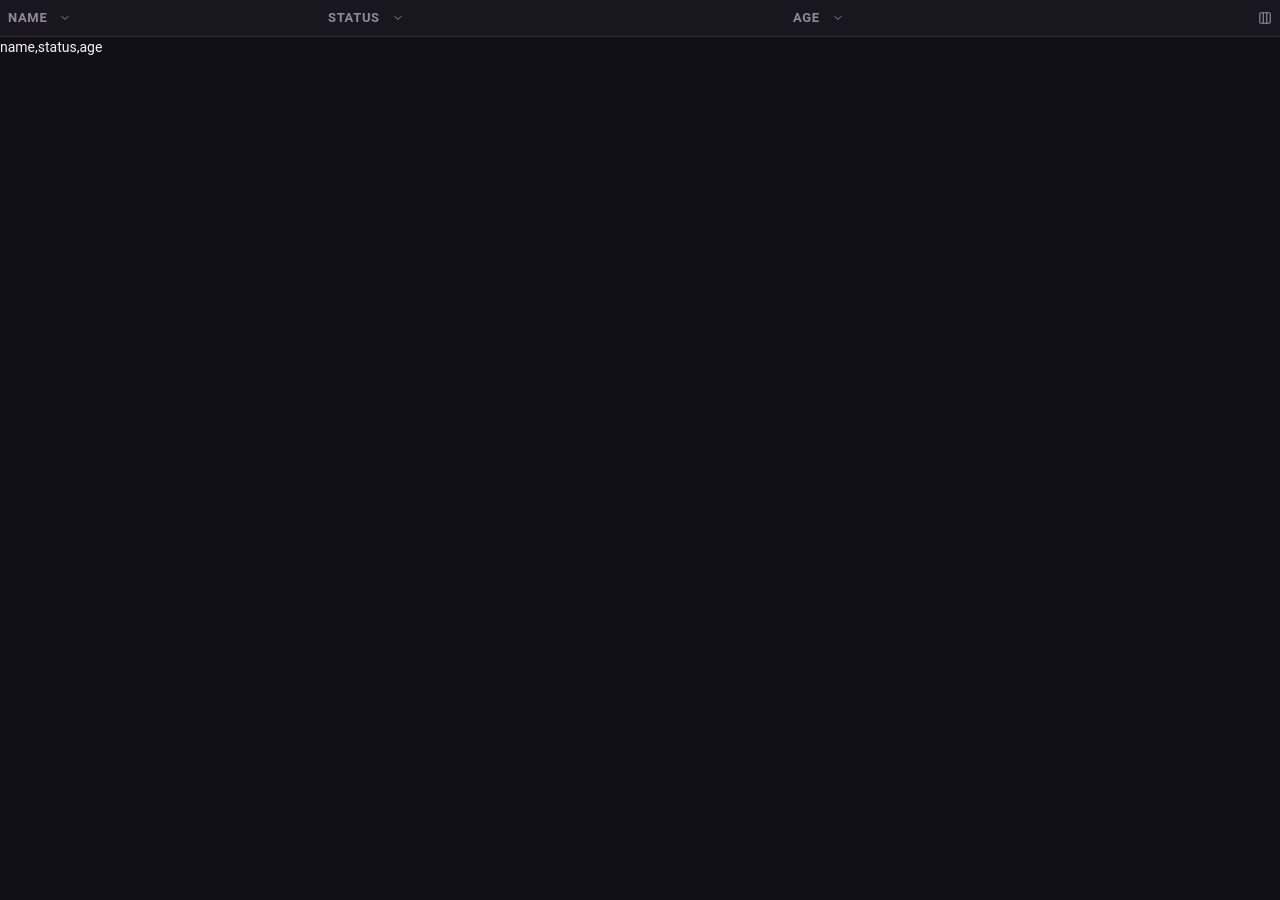
it: column visibility › keeps hidden columns in the chooser and reports persistence failures without reverting the local click
This screenshot has width=1280, height=900.
What coordinates should you click on to do the following:
click the button named "Choose visible columns"
I would click on:
 (1265, 18)
Its box is [1251,4,1279,32].
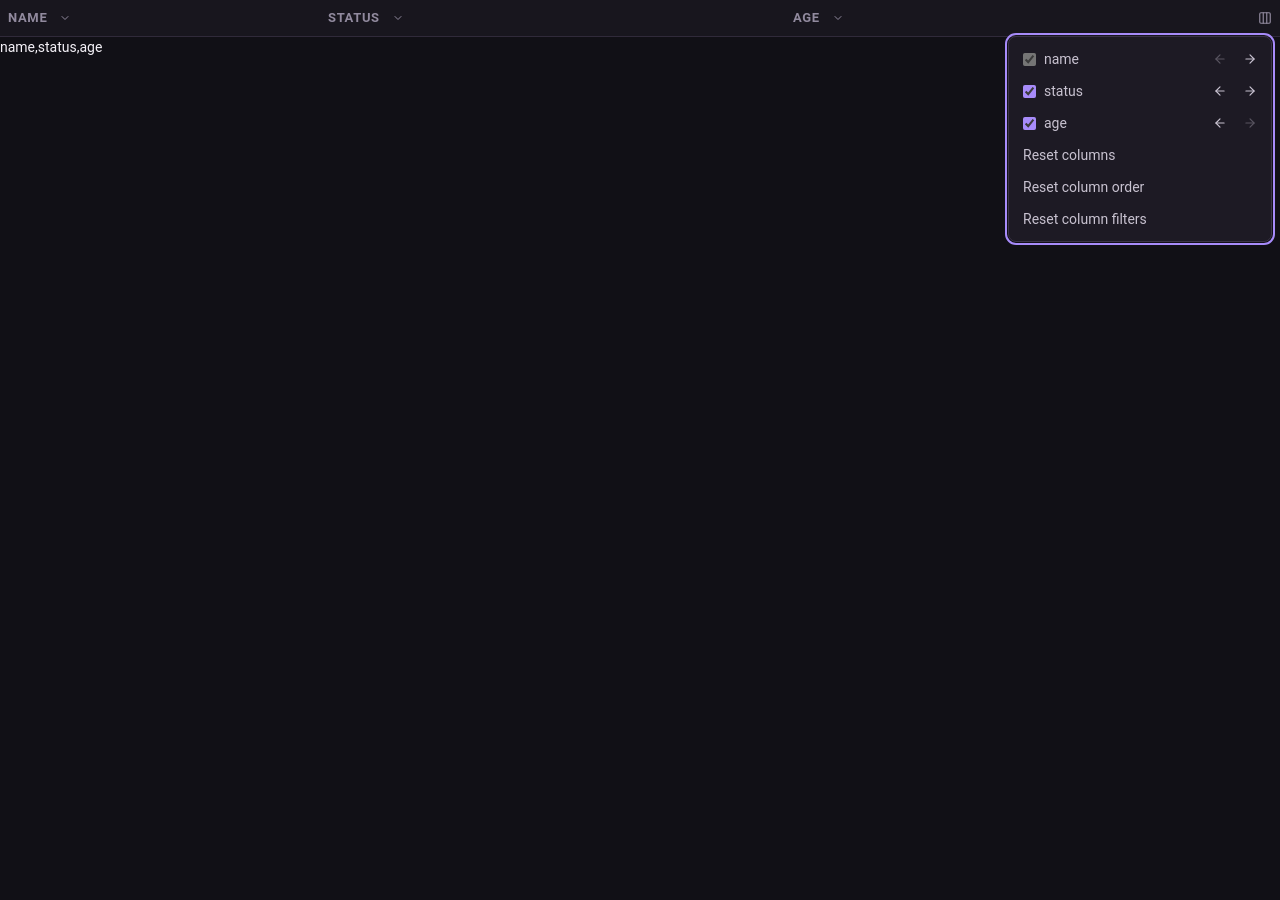
What coordinates should you click on to do the following:
click the checkbox labelled "status"
I would click on:
 (1030, 91)
Its box is [1023,84,1036,98].
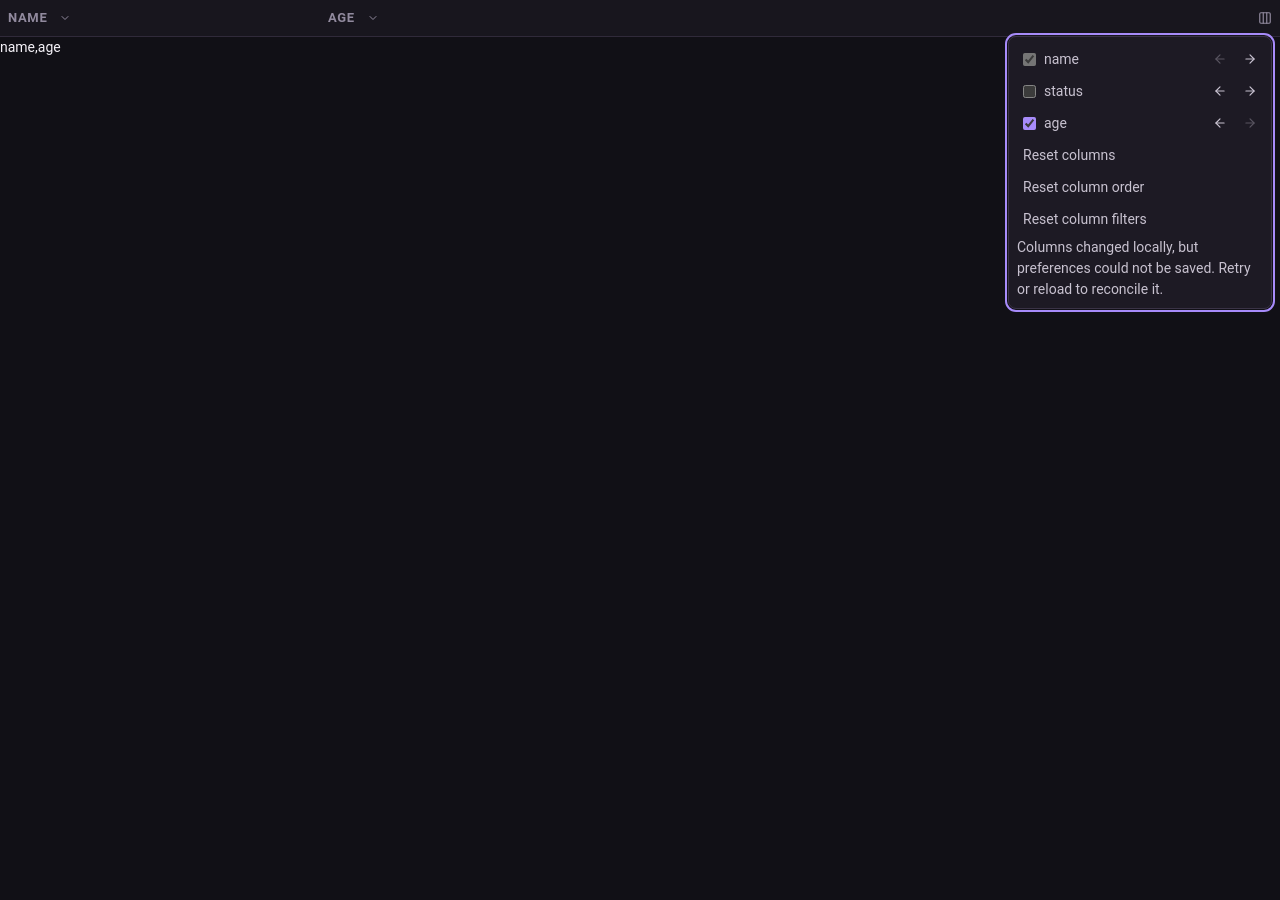
Expected: the checkbox labelled "status" is not checked
Expected: the text named "Visible columns pods" reads "name,age", [0,39,61,55]
Expected: the message shows "changed locally", [1017,239,1251,297]
What coordinates should you click on to do the following:
click the checkbox labelled "status"
I would click on:
 (1030, 91)
Its box is [1023,84,1036,98].
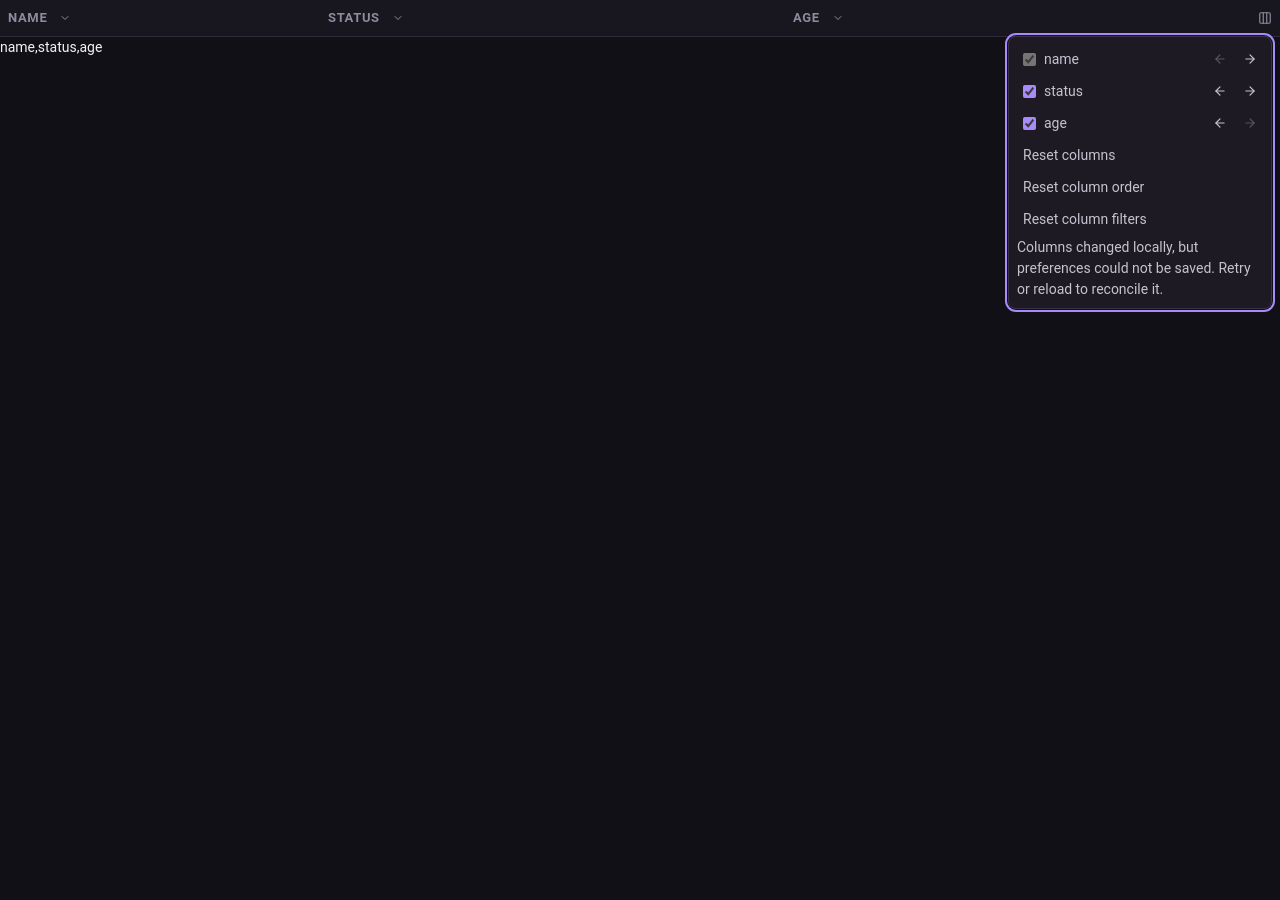
Expected: the text named "Visible columns pods" reads "name,status,age", [0,39,102,55]
